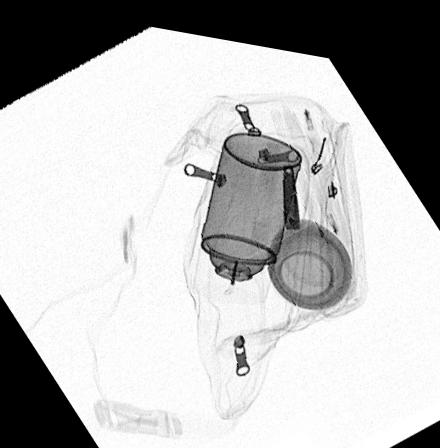Sprayer: (190, 121, 303, 296)
